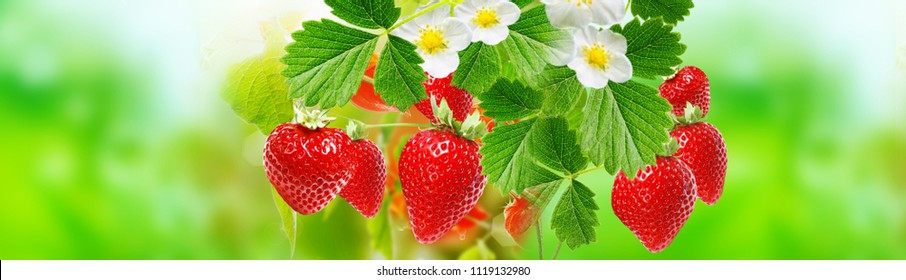ripe: (397, 127, 490, 246), (264, 119, 356, 217), (608, 152, 695, 253), (666, 121, 727, 209), (406, 68, 485, 127), (335, 132, 389, 218), (348, 52, 404, 114), (659, 63, 712, 121), (502, 188, 539, 245)
